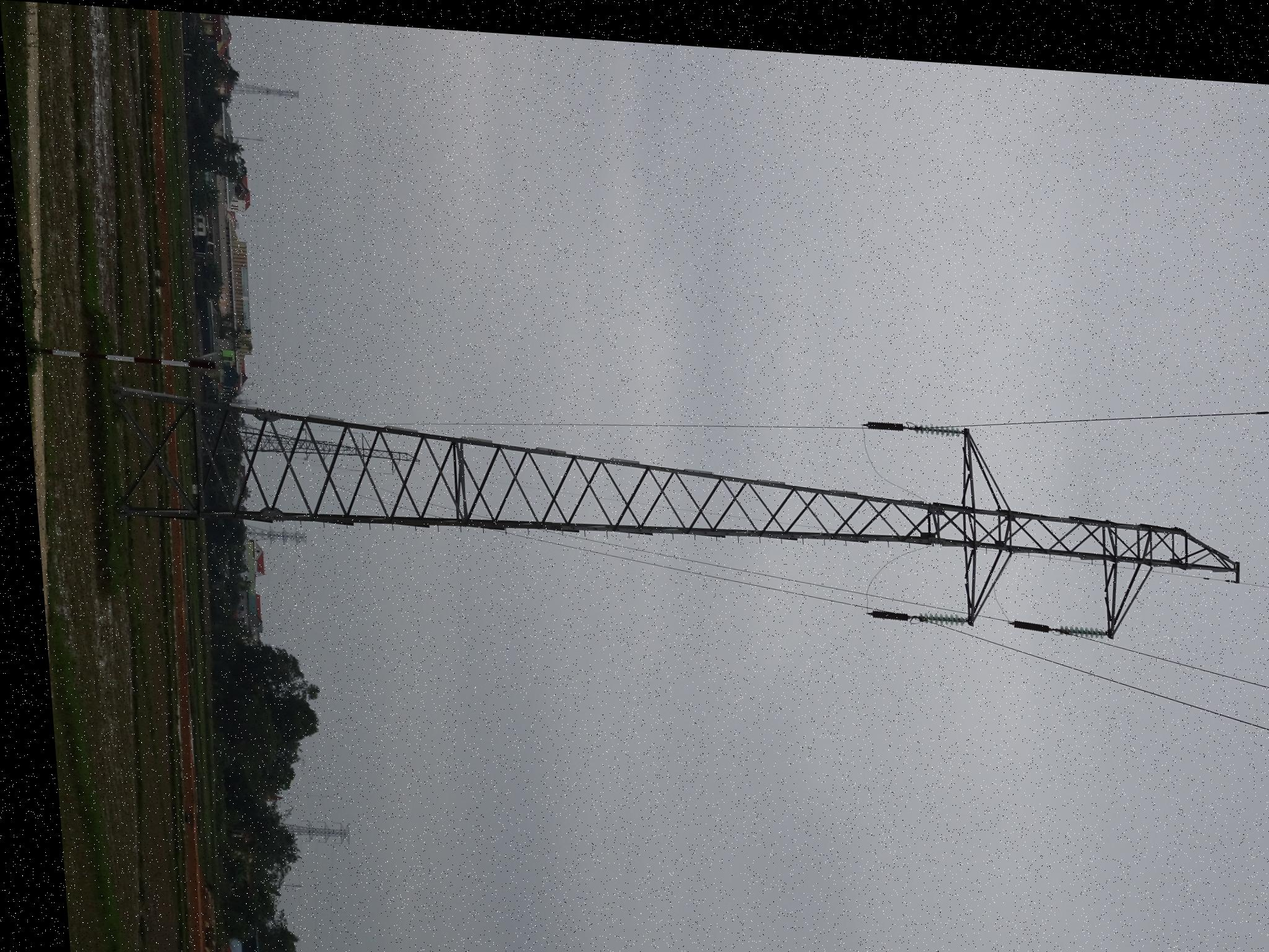tower: (685, 46, 984, 952)
